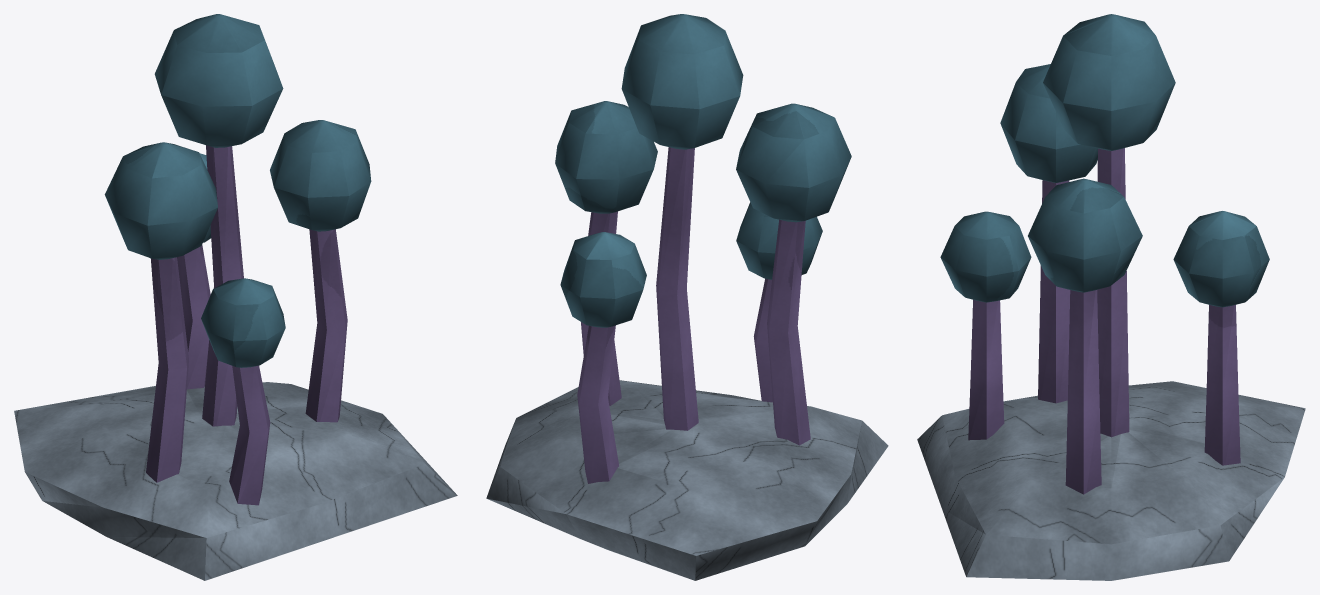
The model's file is bulb_cluster.glb.
3 renders of one model, left to right at view 1: azimuth 30°, elevation 25°; view 2: azimuth 150°, elevation 25°; view 3: azimuth 270°, elevation 25°, orthographic.
Visible parts, largest first — view 1: DL009_BulbCluster_stone_blue, DL009_BulbCluster_flora_body, DL009_BulbCluster_flora_violet; view 2: DL009_BulbCluster_stone_blue, DL009_BulbCluster_flora_body, DL009_BulbCluster_flora_violet; view 3: DL009_BulbCluster_stone_blue, DL009_BulbCluster_flora_body, DL009_BulbCluster_flora_violet.
Boxes of the visible parts, bbox=[...] form: DL009_BulbCluster_stone_blue: bbox=[14, 382, 457, 580]; DL009_BulbCluster_flora_body: bbox=[104, 14, 371, 367]; DL009_BulbCluster_flora_violet: bbox=[146, 145, 347, 505]; DL009_BulbCluster_stone_blue: bbox=[486, 380, 888, 580]; DL009_BulbCluster_flora_body: bbox=[555, 14, 851, 327]; DL009_BulbCluster_flora_violet: bbox=[577, 147, 810, 483]; DL009_BulbCluster_stone_blue: bbox=[917, 381, 1305, 580]; DL009_BulbCluster_flora_body: bbox=[940, 14, 1269, 307]; DL009_BulbCluster_flora_violet: bbox=[968, 148, 1240, 494].
Bounding box in the file's own units: 1.44 × 2.04 × 1.4.
Materials: 6 (3 with a texture image).
